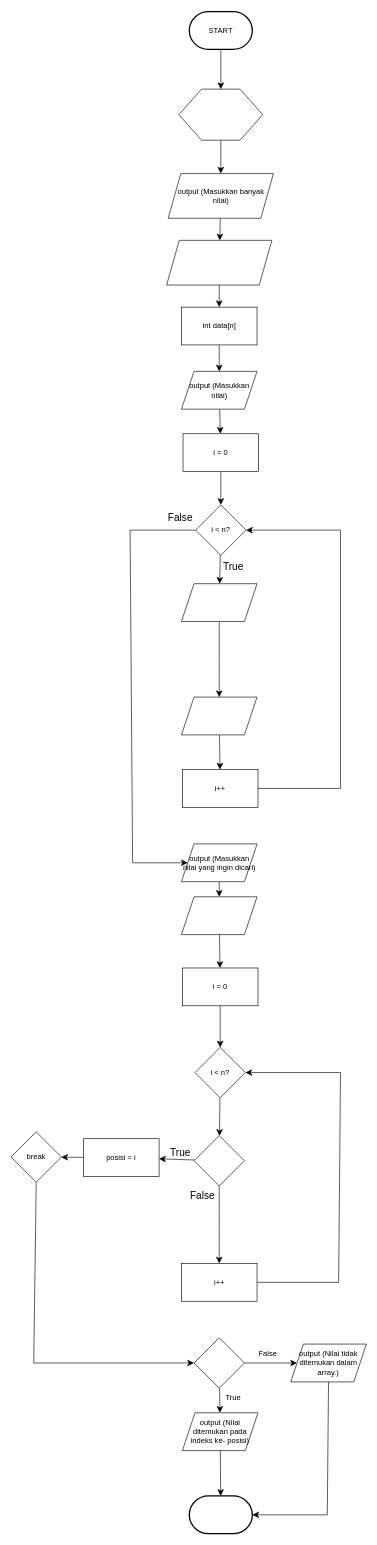
Some shapes in this 377 by 1545 pixel diagram are drawn without their labels. The centre of each missing label's shape, as x and y in pixels:
"data[i] == cari?" belongs at (218,1160).
"END" belongs at (220,1514).
"input cari" belongs at (219,915).
"input data[i]" belongs at (219,715).
"input n" belongs at (219,262).
"int n; int cari; int posisi = -1" belongs at (220,114).
"output (Nilai ke-i +1)" belongs at (219,602).
"posisi ! = -1?" belongs at (218,1362).
